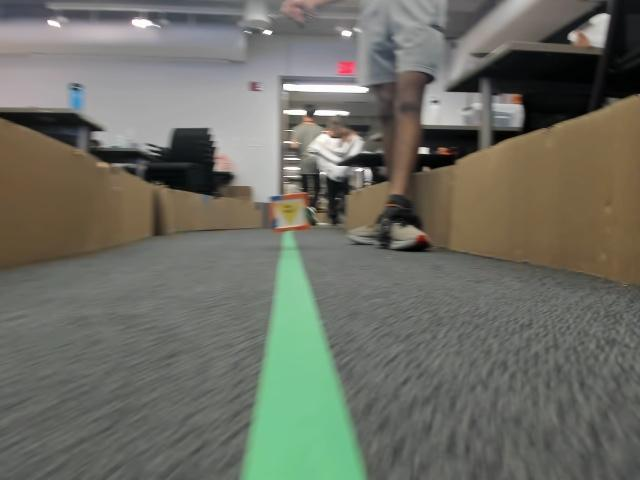Do Not Yield: (275, 204, 300, 224)
